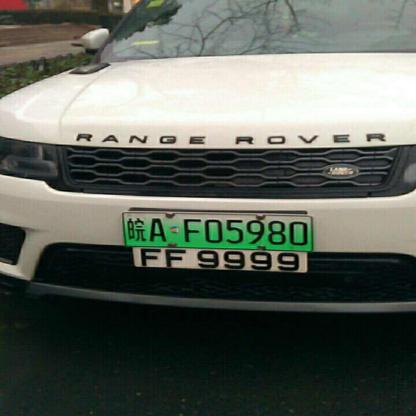lp: (122, 211, 312, 250)
